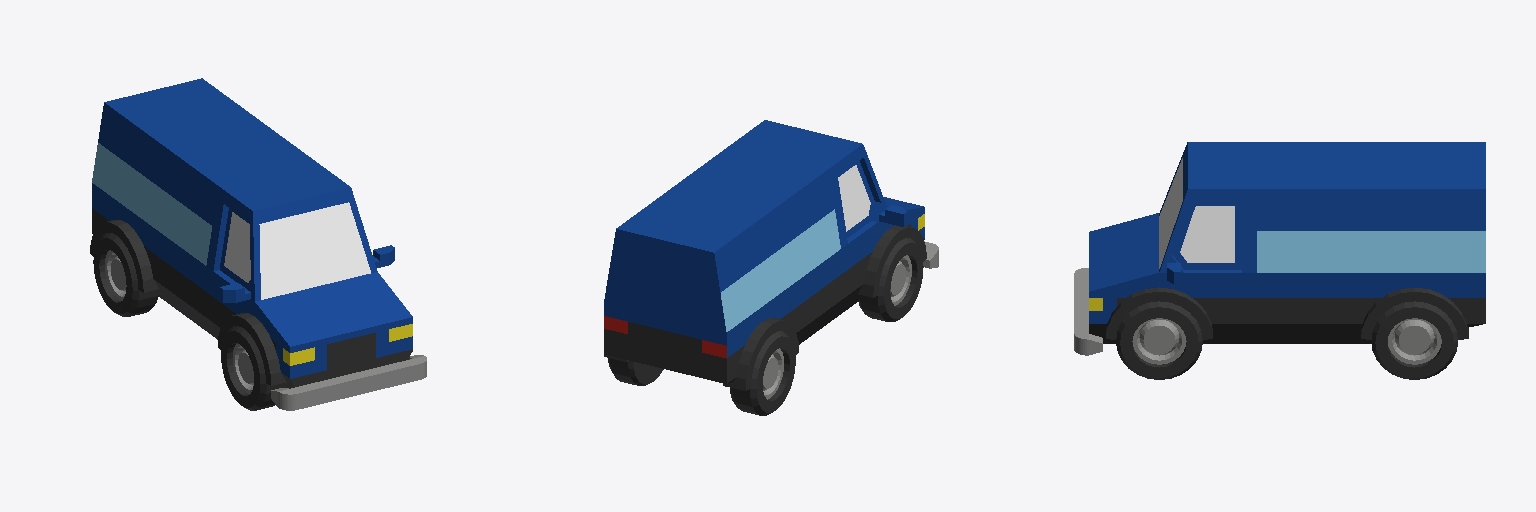
The model's file is van_blue.obj.
The picture shows the model from 3 angles: view 1: azimuth 30°, elevation 25°; view 2: azimuth 150°, elevation 25°; view 3: azimuth 270°, elevation 25°; orthographic projection.
Visible parts, largest first — view 1: mergedBlocks; view 2: mergedBlocks; view 3: mergedBlocks.
Boxes of the visible parts, box(x1,y1,x2,y2) form: mergedBlocks: box(90, 78, 426, 410); mergedBlocks: box(604, 120, 938, 415); mergedBlocks: box(1074, 142, 1485, 379).
Size of the model in its own units: 1.4 by 1.41 by 2.9.